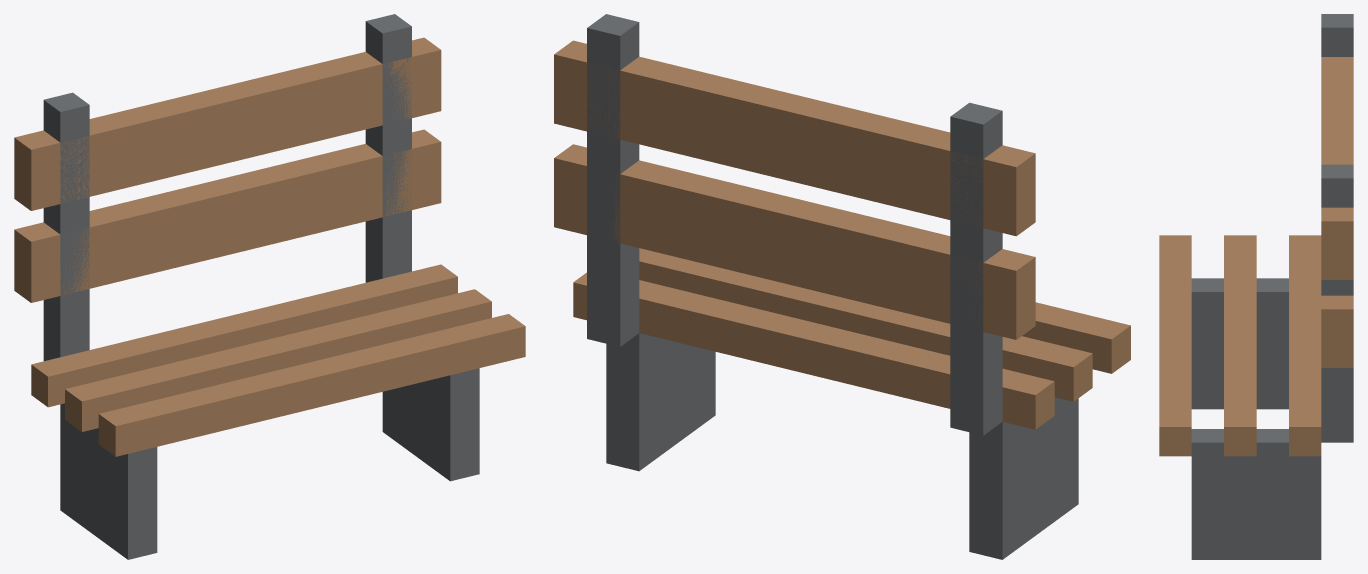
The model's file is pocket-borough-park-bench__290.glb.
The picture shows the model from 3 angles, left to right: view 1: azimuth 30°, elevation 25°; view 2: azimuth 150°, elevation 25°; view 3: azimuth 270°, elevation 25°; orthographic projection. The views are drawn at different scales.
Visible parts, largest first — view 1: pocket-borough-slat-bench; view 2: pocket-borough-slat-bench; view 3: pocket-borough-slat-bench.
Part boxes in pixels (x1,y1,x2,y2): pocket-borough-slat-bench: [14, 14, 525, 559]; pocket-borough-slat-bench: [554, 14, 1130, 559]; pocket-borough-slat-bench: [1159, 14, 1353, 559].
Size of the model in its own units: 1.75 by 1.62 by 0.75.
